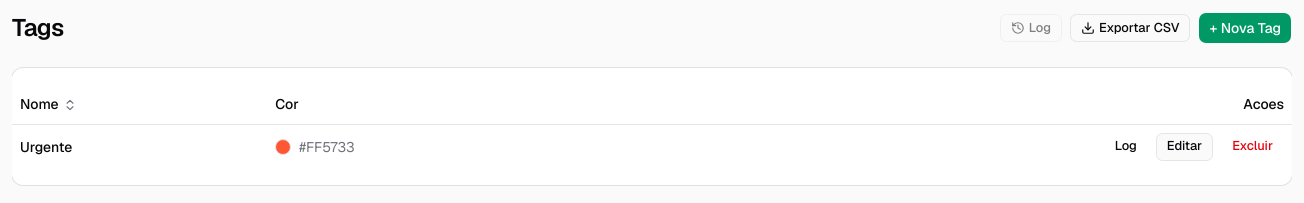
Test case: TagsPage › cancela exclusao ao clicar Cancelar
This screenshot has width=1304, height=203.
Expected: the text "Urgente" is shown, [12,124,267,168]
Click the button "Excluir" at (1253, 146), box [1221,132,1284,160]
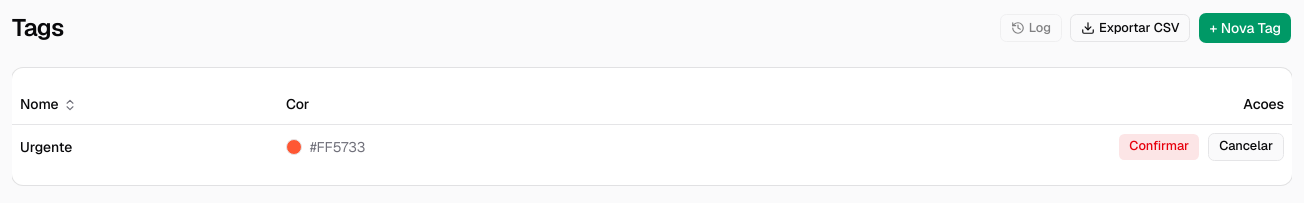
Click the button "Cancelar" at (1246, 146), box [1208,132,1284,160]
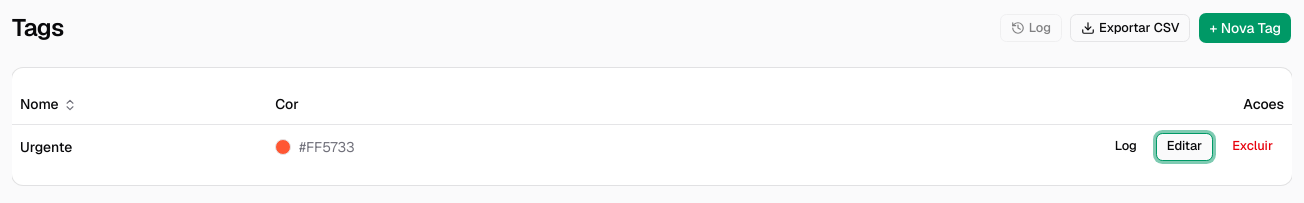
Result: the button "Excluir" is shown at [1221,132,1284,160]
